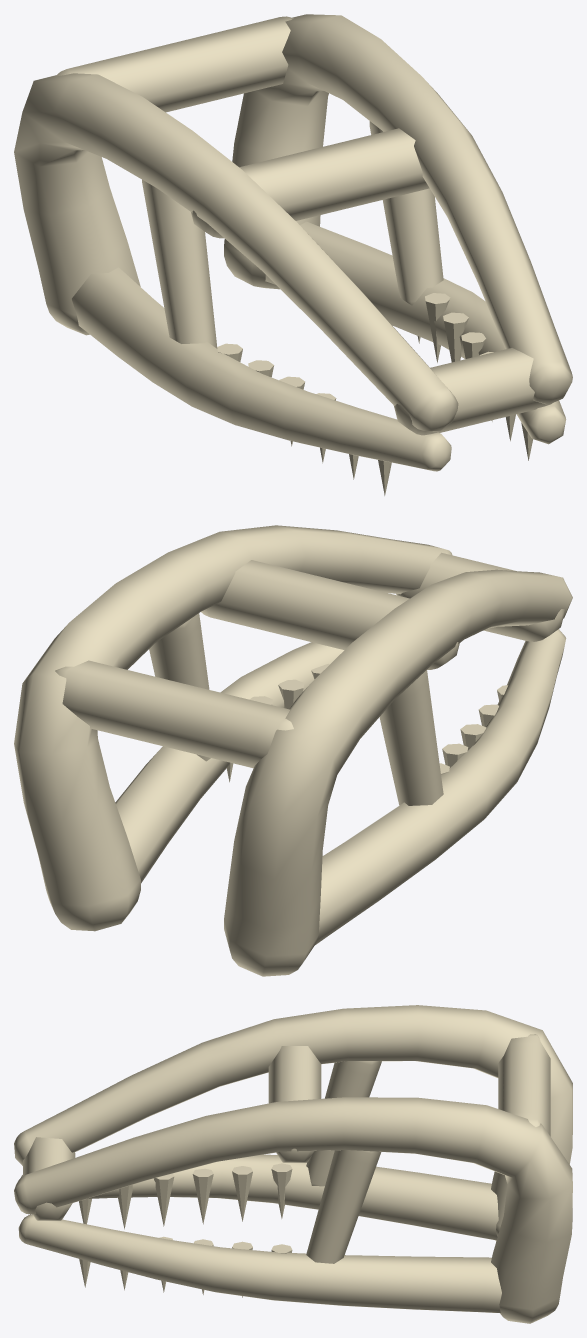
File: primeval-frontier-theropod-skull-fossil-7daa7099__1779.glb
The picture shows the model from 3 angles, top to bottom: view 1: azimuth 30°, elevation 25°; view 2: azimuth 150°, elevation 25°; view 3: azimuth 270°, elevation 25°; orthographic projection. The views are drawn at different scales.
Visible parts, largest first — view 1: theropod-skull-fossil; view 2: theropod-skull-fossil; view 3: theropod-skull-fossil.
Boxes of the visible parts, x1=… form: theropod-skull-fossil: x1=14, y1=14, x2=572, y2=495; theropod-skull-fossil: x1=14, y1=525, x2=572, y2=976; theropod-skull-fossil: x1=14, y1=1005, x2=572, y2=1323.
Bounding box in the file's own units: 0.8748 × 0.7665 × 1.71.
